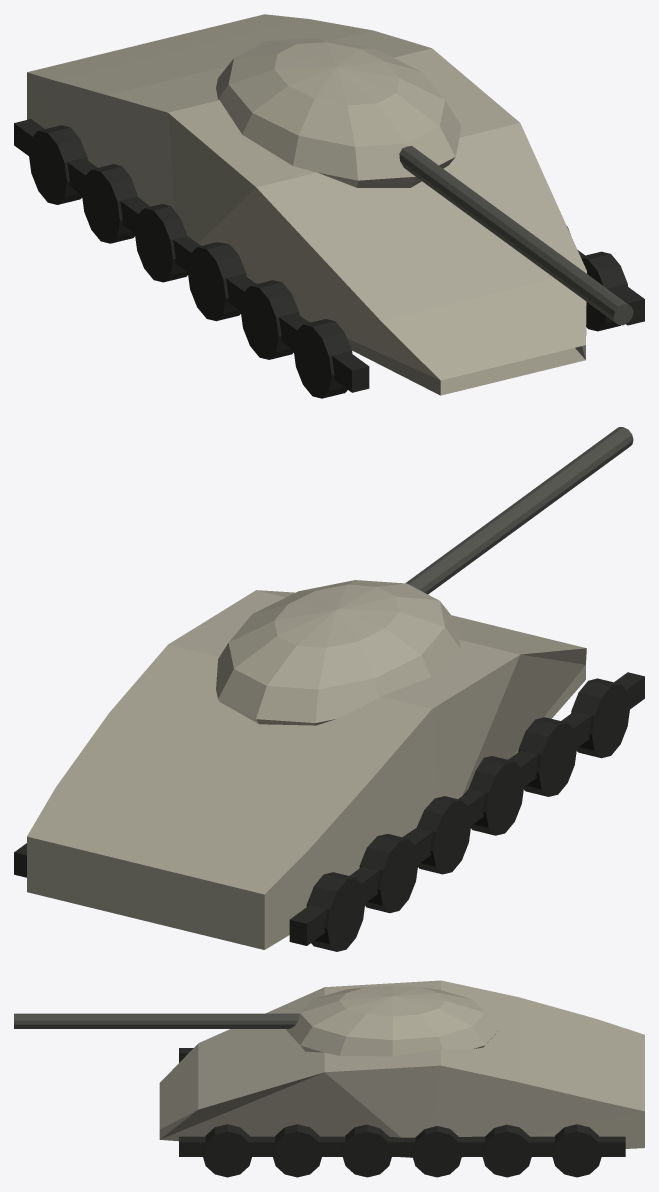
Rendered from zsu23.glb.
The picture shows the model from 3 angles, top to bottom: view 1: azimuth 30°, elevation 25°; view 2: azimuth 150°, elevation 25°; view 3: azimuth 270°, elevation 25°; orthographic projection. The views are drawn at different scales.
Visible parts, largest first — view 1: Hull, Turret, Gun, Track_L, Wheel_L_02, Wheel_L_06, Wheel_L_01, Wheel_L_03, Wheel_L_05, Wheel_L_04, Wheel_R_01, Track_R; view 2: Hull, Turret, Gun, Track_L, Wheel_L_06, Wheel_L_01, Wheel_L_02, Wheel_L_05, Wheel_L_03, Wheel_L_04; view 3: Hull, Turret, Gun, Track_R, Wheel_R_01, Wheel_R_02, Wheel_R_06, Wheel_R_05, Wheel_R_03, Wheel_R_04.
Part boxes in pixels (bbox=[...]): Hull: bbox=[27, 14, 586, 395]; Turret: bbox=[216, 37, 460, 187]; Gun: bbox=[399, 146, 633, 325]; Track_L: bbox=[14, 119, 369, 392]; Wheel_L_02: bbox=[240, 280, 299, 359]; Wheel_L_06: bbox=[28, 125, 87, 204]; Wheel_L_01: bbox=[293, 319, 352, 398]; Wheel_L_03: bbox=[187, 242, 246, 321]; Wheel_L_05: bbox=[81, 164, 137, 243]; Wheel_L_04: bbox=[134, 204, 187, 282]; Wheel_R_01: bbox=[581, 251, 627, 331]; Track_R: bbox=[577, 250, 644, 325]; Hull: bbox=[27, 590, 586, 949]; Turret: bbox=[216, 580, 460, 725]; Gun: bbox=[405, 427, 633, 594]; Track_L: bbox=[289, 672, 644, 945]; Wheel_L_06: bbox=[306, 872, 365, 951]; Wheel_L_01: bbox=[571, 678, 630, 758]; Wheel_L_02: bbox=[518, 717, 577, 796]; Wheel_L_05: bbox=[359, 834, 418, 912]; Wheel_L_03: bbox=[468, 756, 524, 835]; Wheel_L_04: bbox=[417, 796, 471, 874]; Hull: bbox=[159, 980, 644, 1157]; Turret: bbox=[286, 985, 499, 1056]; Gun: bbox=[14, 1013, 299, 1028]; Track_R: bbox=[179, 1136, 625, 1156]; Wheel_R_01: bbox=[202, 1124, 252, 1177]; Wheel_R_02: bbox=[272, 1124, 322, 1177]; Wheel_R_06: bbox=[551, 1124, 602, 1177]; Wheel_R_05: bbox=[481, 1124, 532, 1177]; Wheel_R_03: bbox=[342, 1124, 392, 1177]; Wheel_R_04: bbox=[412, 1126, 462, 1177].
Size of the model in its own units: 3.07 by 1.98 by 8.5.
